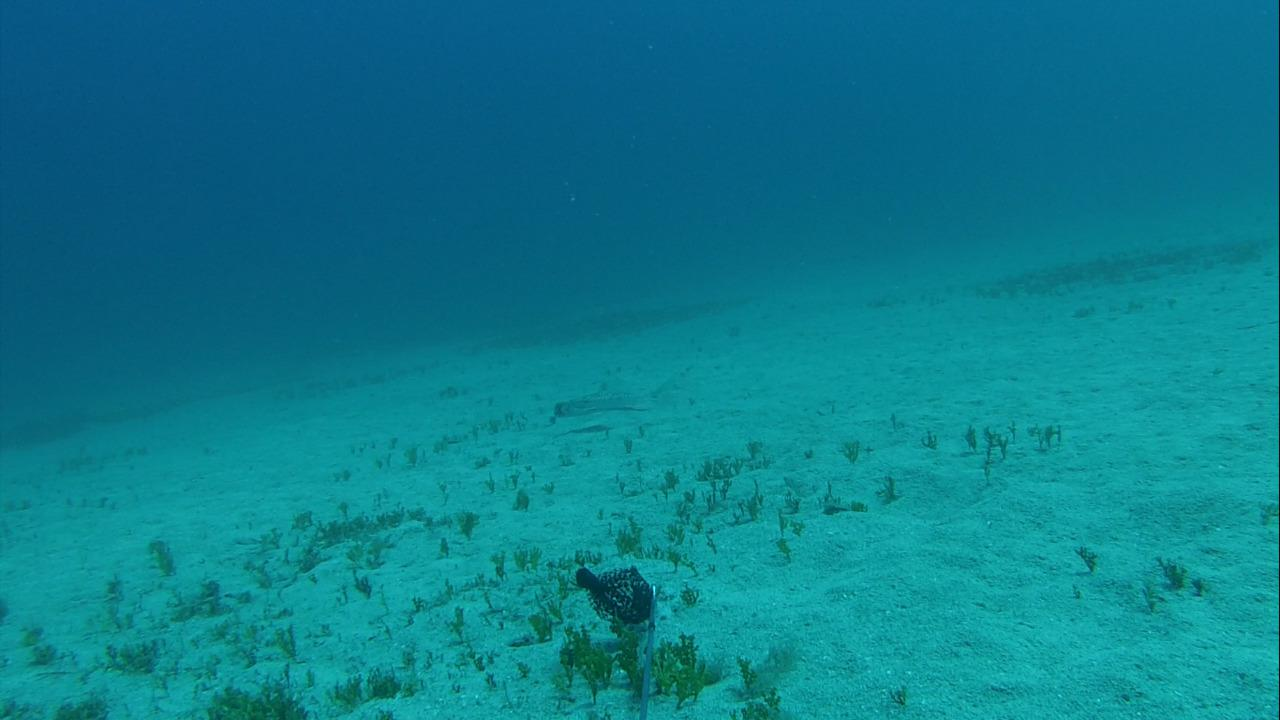dactylopterus: (536, 370, 691, 428)
